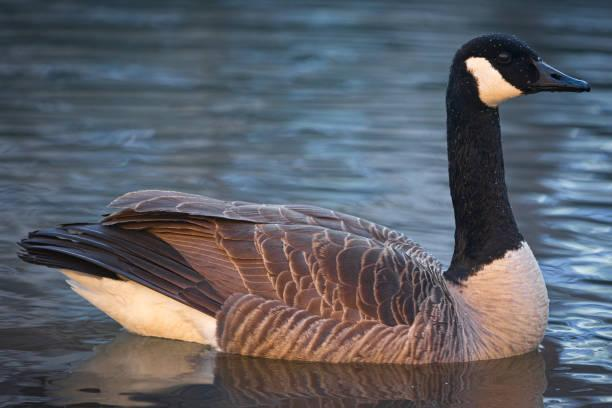Canadian-Goose: (20, 29, 594, 365)
